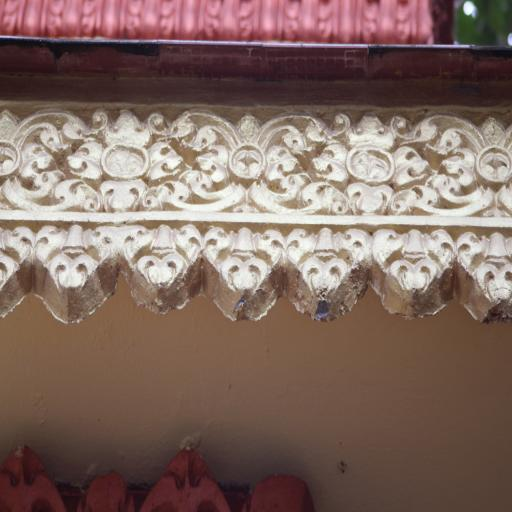hoa: (74, 100, 172, 217), (317, 116, 419, 220)
la: (171, 110, 315, 216), (417, 112, 512, 214), (33, 225, 123, 324), (371, 226, 458, 328), (286, 228, 372, 327), (0, 101, 75, 211), (202, 228, 289, 322), (122, 226, 204, 320), (457, 224, 512, 332), (0, 226, 36, 313)
